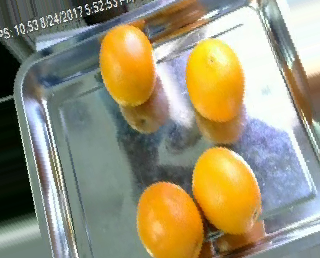Orange: (190, 147, 262, 234), (136, 180, 205, 258), (186, 38, 245, 122), (99, 25, 156, 106)
